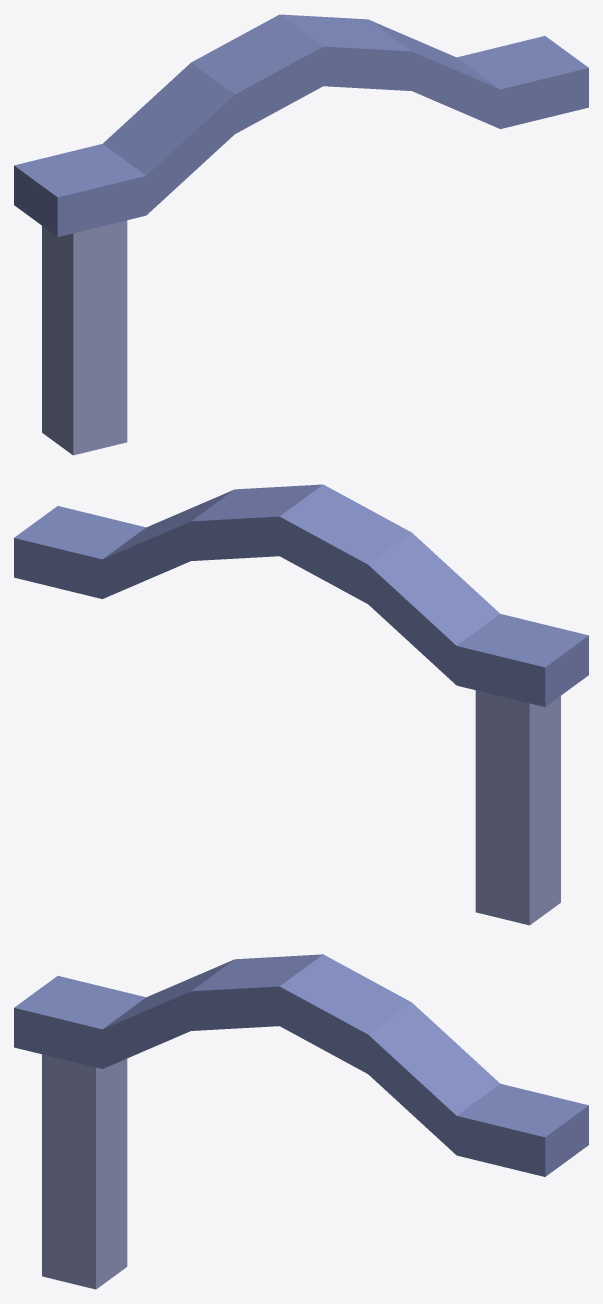
File: bridge_arch_1a_2.fbx
The picture shows the model from 3 angles, top to bottom: view 1: azimuth 30°, elevation 25°; view 2: azimuth 150°, elevation 25°; view 3: azimuth 330°, elevation 25°; orthographic projection.
Parts seen in each view (by area): view 1: bridge_arch_1a_2; view 2: bridge_arch_1a_2; view 3: bridge_arch_1a_2.
Part boxes in pixels (x1,y1,x2,y2): bridge_arch_1a_2: (14,14,588,455); bridge_arch_1a_2: (14,484,588,925); bridge_arch_1a_2: (14,954,588,1289).
Bounding box in the file's own units: 9.8 × 6.24 × 1.4.
